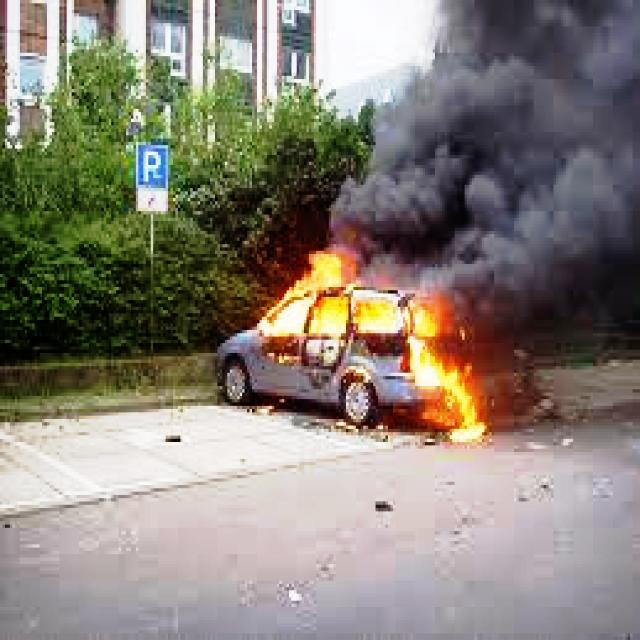api: (382, 278, 503, 453), (256, 229, 372, 344)
